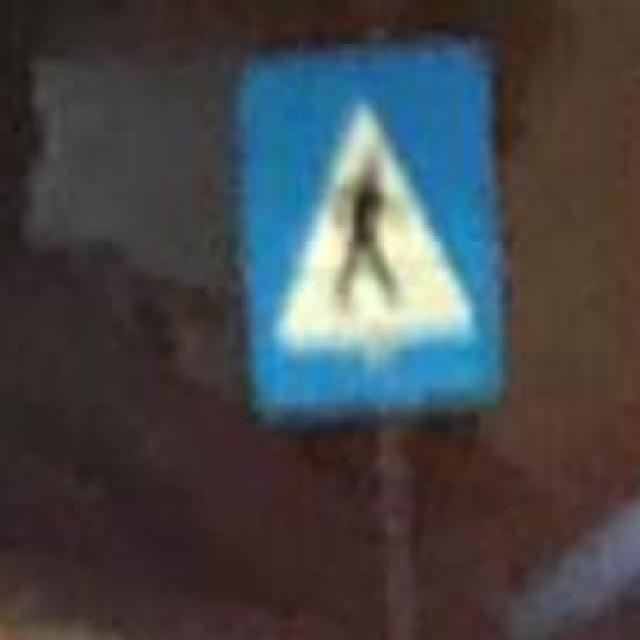traffic sign: (238, 47, 501, 407)
